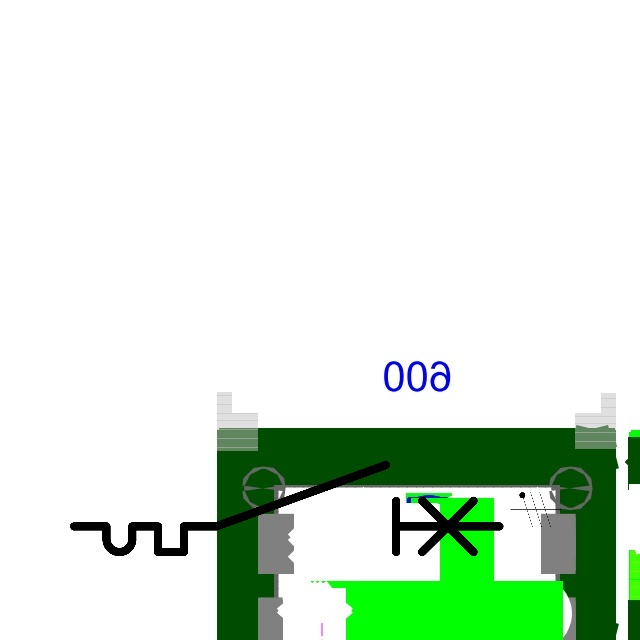interruptor_termomagnetico: (63, 454, 510, 563)
